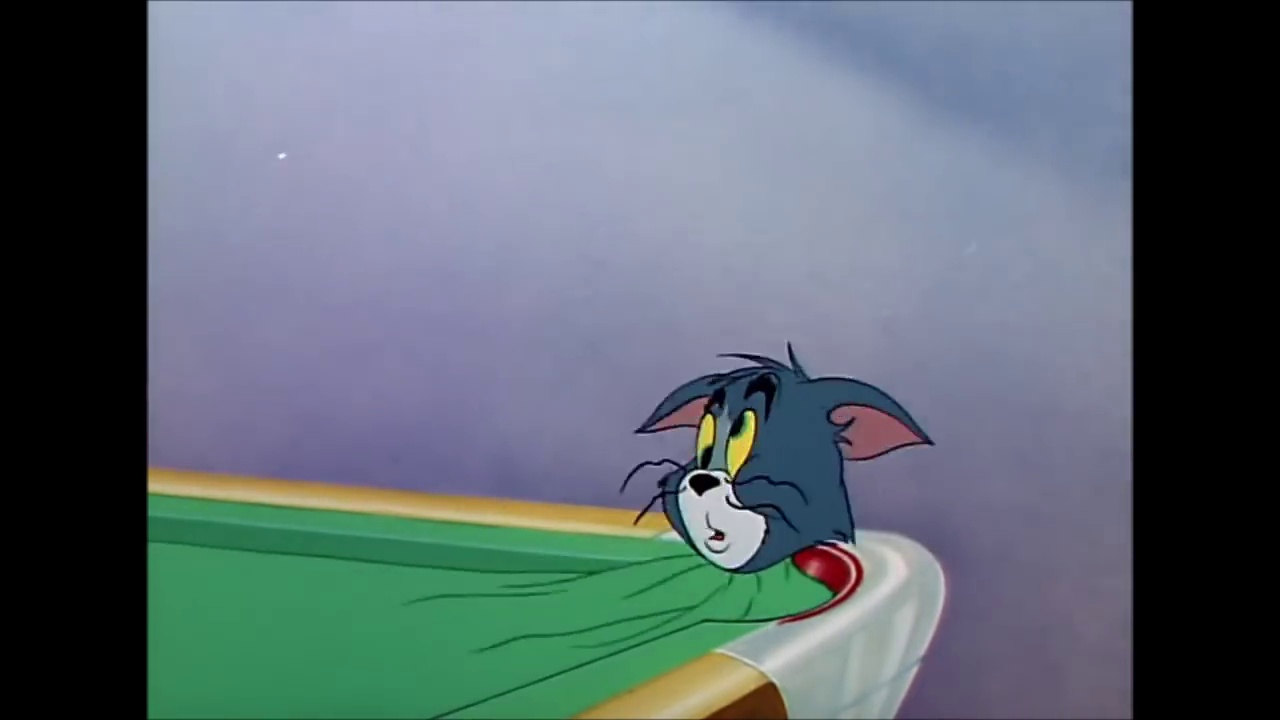sad: (689, 368, 785, 578)
